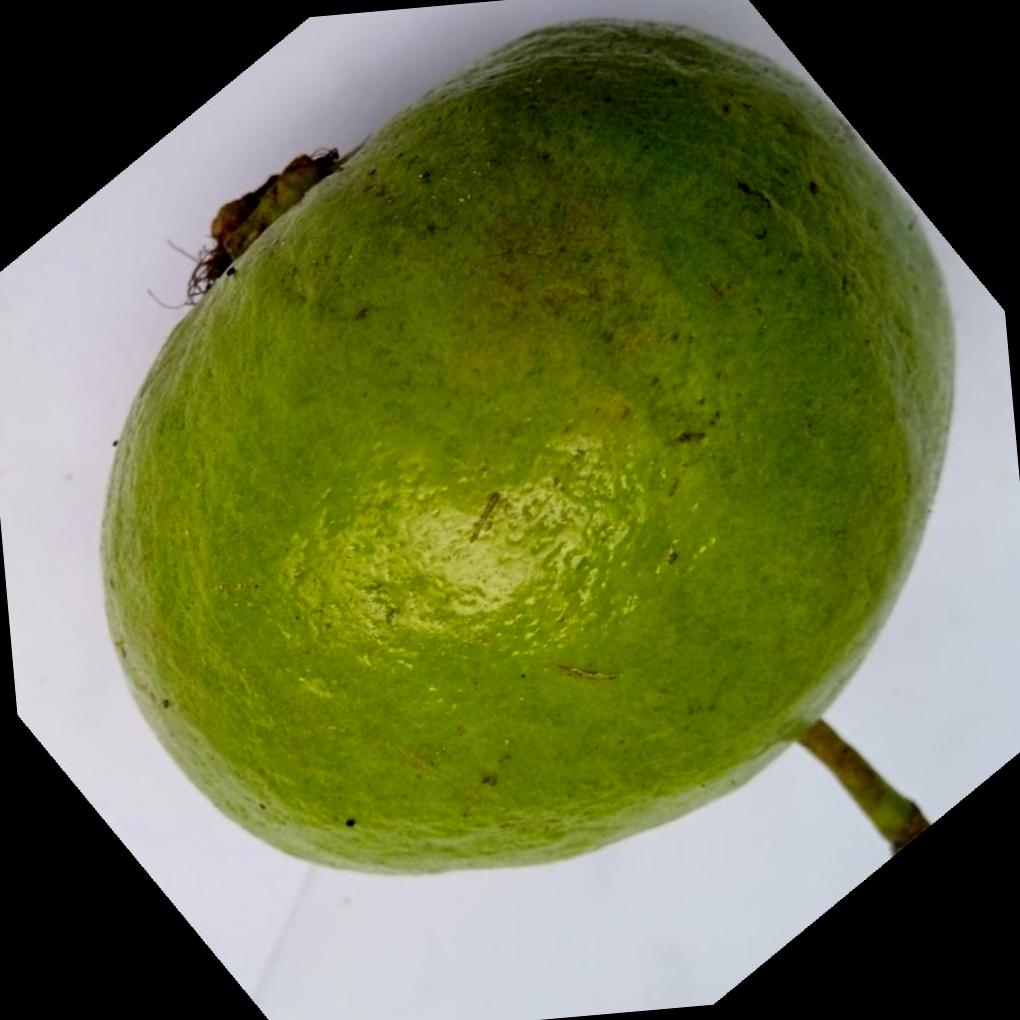FreshGuava: (97, 16, 959, 874)
